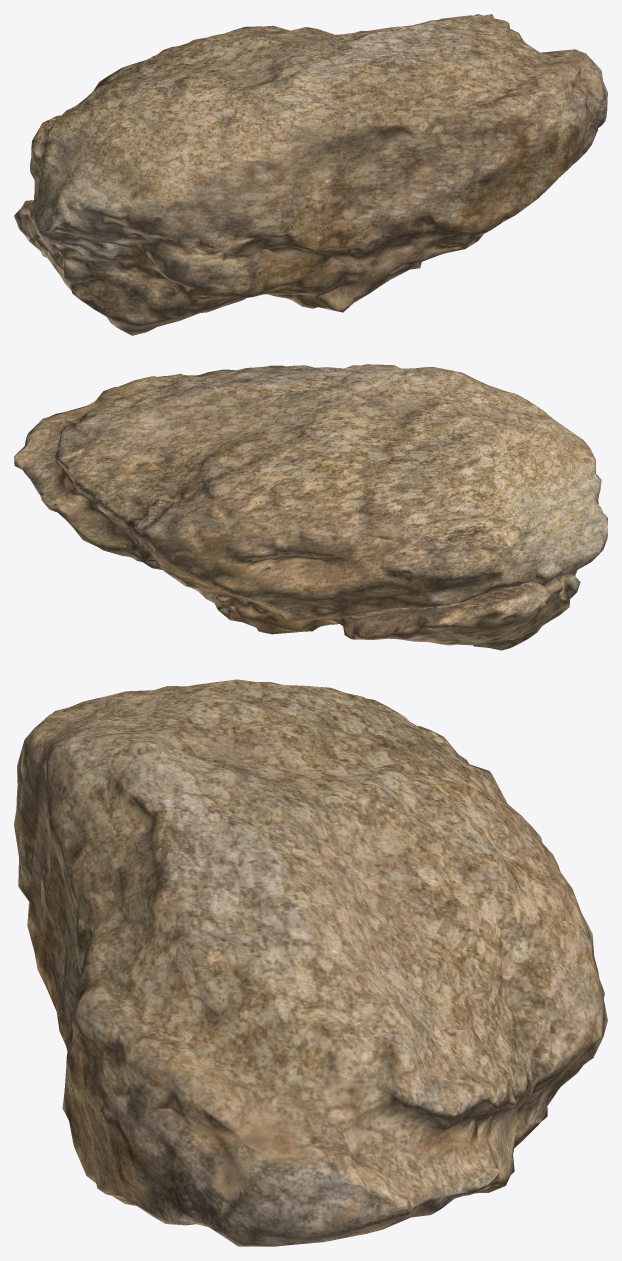
File: bould4.glb
The picture shows the model from 3 angles, top to bottom: view 1: azimuth 30°, elevation 25°; view 2: azimuth 150°, elevation 25°; view 3: azimuth 270°, elevation 25°; orthographic projection. The views are drawn at different scales.
Parts seen in each view (by area): view 1: bould4; view 2: bould4; view 3: bould4.
Part boxes in pixels (x1,y1,x2,y2): bould4: (14, 14, 607, 335); bould4: (14, 364, 607, 650); bould4: (14, 679, 607, 1246).
Bounding box in the file's own units: 1.36 × 0.5322 × 0.7457.
Materials: 1 (1 with a texture image).
